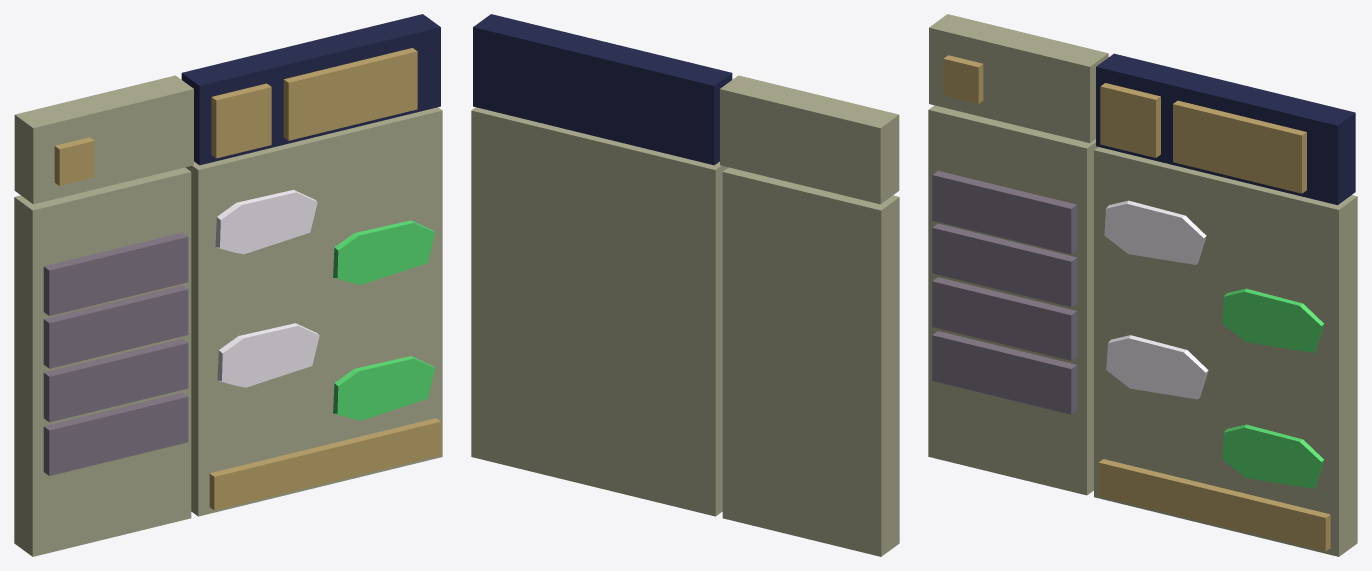
The model's file is chat.glb.
3 views of the same model, side by side, from view 1: azimuth 30°, elevation 25°; view 2: azimuth 150°, elevation 25°; view 3: azimuth 330°, elevation 25° (orthographic).
Parts seen in each view (by area): view 1: back; view 2: back; view 3: back.
Boxes of the visible parts, bbox=[...] form: back: bbox=[14, 14, 442, 556]; back: bbox=[471, 14, 899, 556]; back: bbox=[928, 14, 1357, 556].
Bounding box in the file's own units: 6.89 × 6.91 × 0.7279.
